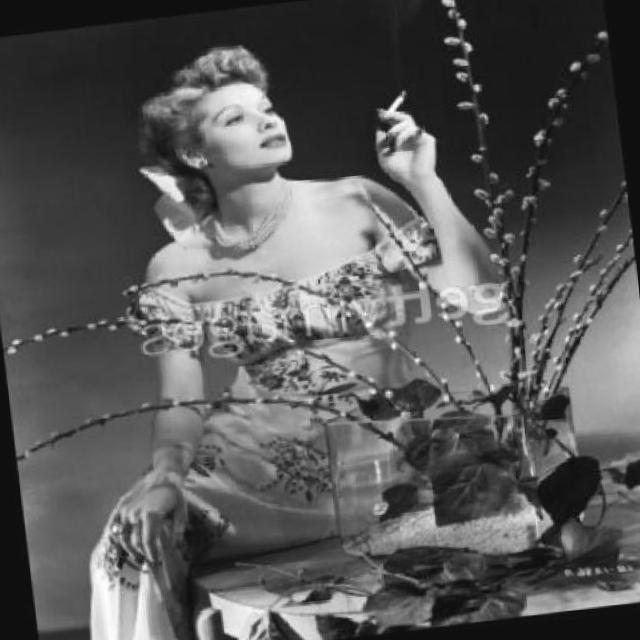smoke: (370, 89, 412, 122)
